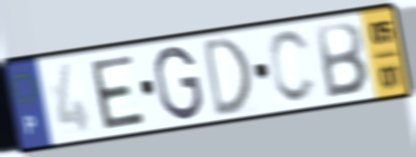4: (53, 59, 94, 138)
B: (313, 19, 371, 101)
C: (266, 27, 320, 106)
D: (200, 33, 254, 121)
E: (87, 52, 148, 133)
G: (152, 43, 206, 123)
